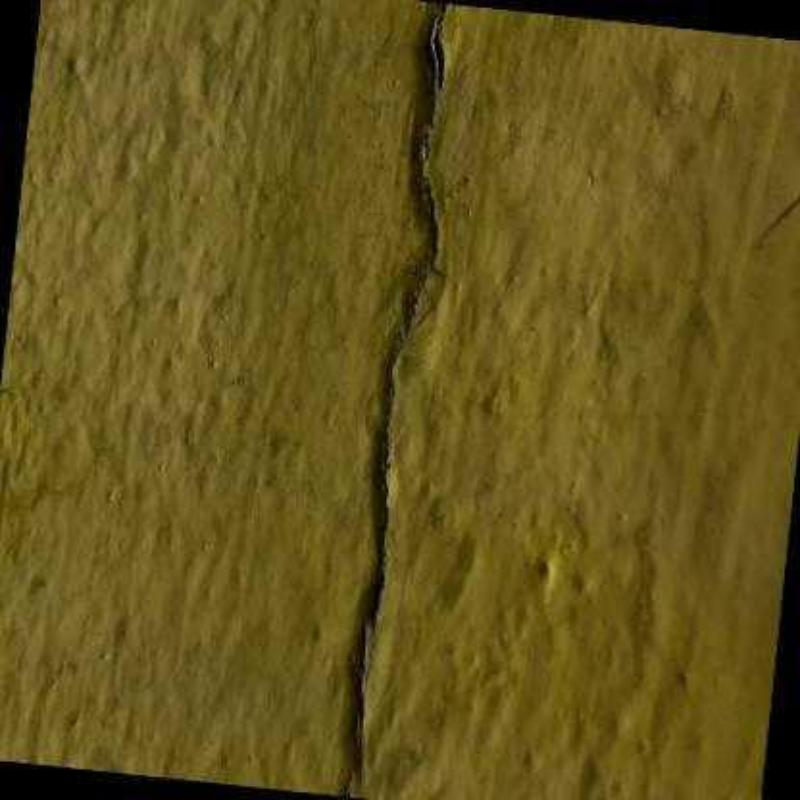crack: (376, 253, 428, 609), (419, 3, 448, 252), (357, 617, 366, 783), (346, 770, 351, 797)
